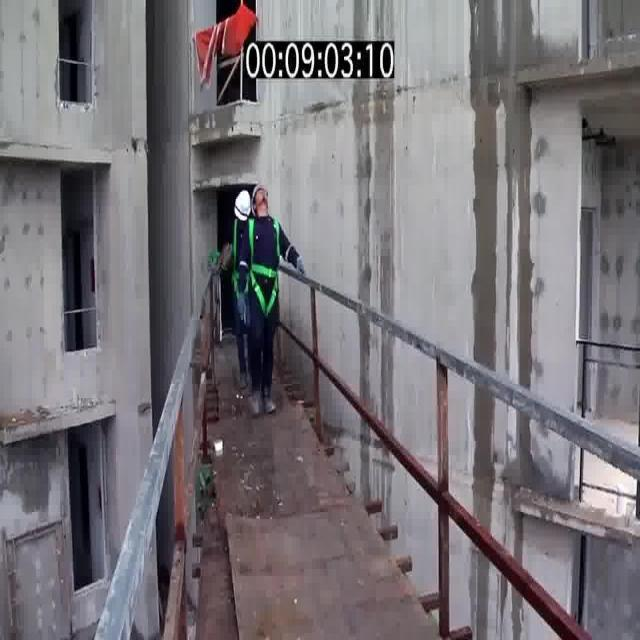belt: (248, 214, 282, 318)
